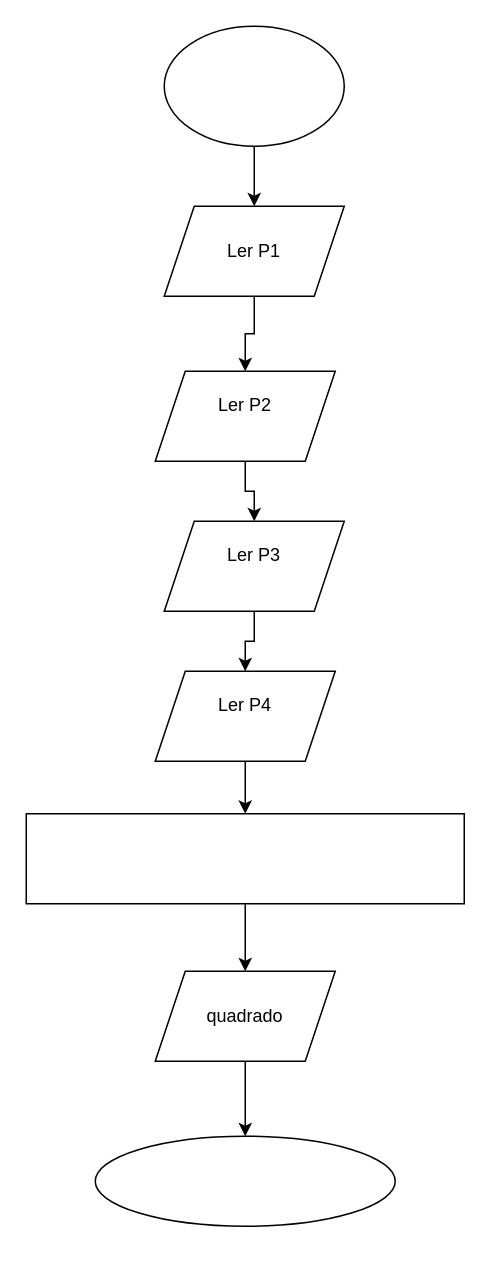
Some shapes in this 491 by 1265 pixel diagram are drawn without their labels. Each missing label, with the centre of its shape:
"fim" goes at (x=244, y=1180).
"inicio" goes at (x=253, y=85).
"Quadrado = ( P1 + P2 + P3 + P4) / 4" goes at (x=244, y=858).
